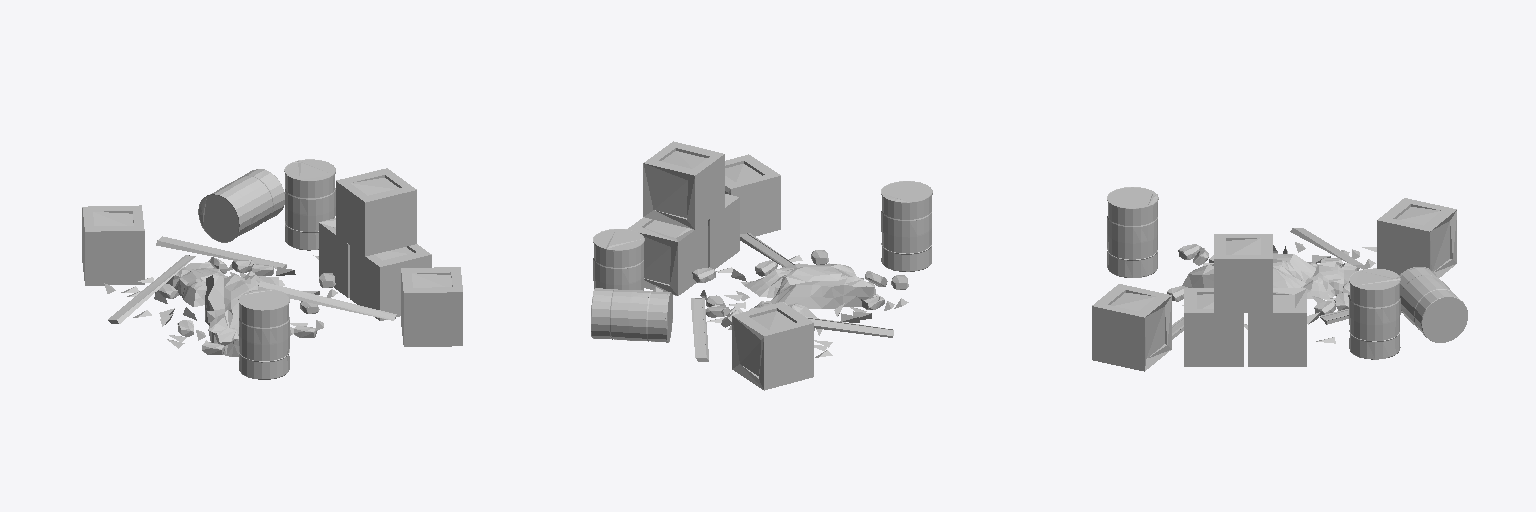
The model's file is robotspawncamp2_mid.obj.
3 renders of one model, left to right at view 1: azimuth 30°, elevation 25°; view 2: azimuth 150°, elevation 25°; view 3: azimuth 270°, elevation 25°, orthographic.
Visible parts, largest first — view 1: pCube49, pCube51, pCube50, pCylinder2, pCylinder1, boxxe:pCylinder1, pCube48, pCube2, boxwood:pCube1, pCube1, pCube4, pCube3 (+1 smaller); view 2: pCube51, pCube49, pCylinder2, boxwood:pCube1, pCube2, pCylinder1, pCube50, boxxe:pCylinder1, pCube48, pCube3, pCube47, pCube4; view 3: pCube50, pCube51, pCube49, boxxe:pCylinder1, pCylinder2, boxwood:pCube1, pCube48, pCylinder1, pCube2, pCube1, pCube47.
Boxes of the visible parts, x1=… form: pCube49: x1=336, y1=168, x2=416, y2=256; pCube51: x1=82, y1=205, x2=144, y2=285; pCube50: x1=401, y1=267, x2=462, y2=346; pCylinder2: x1=238, y1=289, x2=289, y2=379; pCylinder1: x1=198, y1=169, x2=284, y2=242; boxxe:pCylinder1: x1=284, y1=159, x2=335, y2=250; pCube48: x1=350, y1=244, x2=431, y2=320; pCube2: x1=205, y1=274, x2=278, y2=356; boxwood:pCube1: x1=319, y1=218, x2=349, y2=297; pCube1: x1=166, y1=262, x2=227, y2=306; pCube4: x1=258, y1=281, x2=396, y2=320; pCube3: x1=156, y1=236, x2=286, y2=268; pCube51: x1=732, y1=302, x2=813, y2=390; pCube49: x1=643, y1=141, x2=724, y2=229; pCylinder2: x1=881, y1=181, x2=932, y2=271; boxwood:pCube1: x1=628, y1=217, x2=707, y2=295; pCube2: x1=741, y1=263, x2=875, y2=308; pCylinder1: x1=591, y1=288, x2=672, y2=342; pCube50: x1=725, y1=154, x2=780, y2=236; boxxe:pCylinder1: x1=593, y1=229, x2=644, y2=290; pCube48: x1=708, y1=194, x2=739, y2=269; pCube3: x1=691, y1=298, x2=708, y2=361; pCube47: x1=805, y1=316, x2=893, y2=337; pCube4: x1=740, y1=233, x2=796, y2=267; pCube50: x1=1092, y1=284, x2=1171, y2=371; pCube51: x1=1377, y1=198, x2=1456, y2=277; pCube49: x1=1214, y1=234, x2=1272, y2=312; boxxe:pCylinder1: x1=1349, y1=268, x2=1400, y2=359; pCylinder2: x1=1107, y1=187, x2=1158, y2=277; boxwood:pCube1: x1=1248, y1=288, x2=1306, y2=366; pCube48: x1=1184, y1=288, x2=1243, y2=366; pCylinder1: x1=1399, y1=267, x2=1467, y2=342; pCube2: x1=1182, y1=253, x2=1315, y2=287; pCube1: x1=1301, y1=262, x2=1359, y2=298; pCube47: x1=1290, y1=228, x2=1364, y2=268.
Bounding box in the file's own units: 22.34 × 9.23 × 26.62.